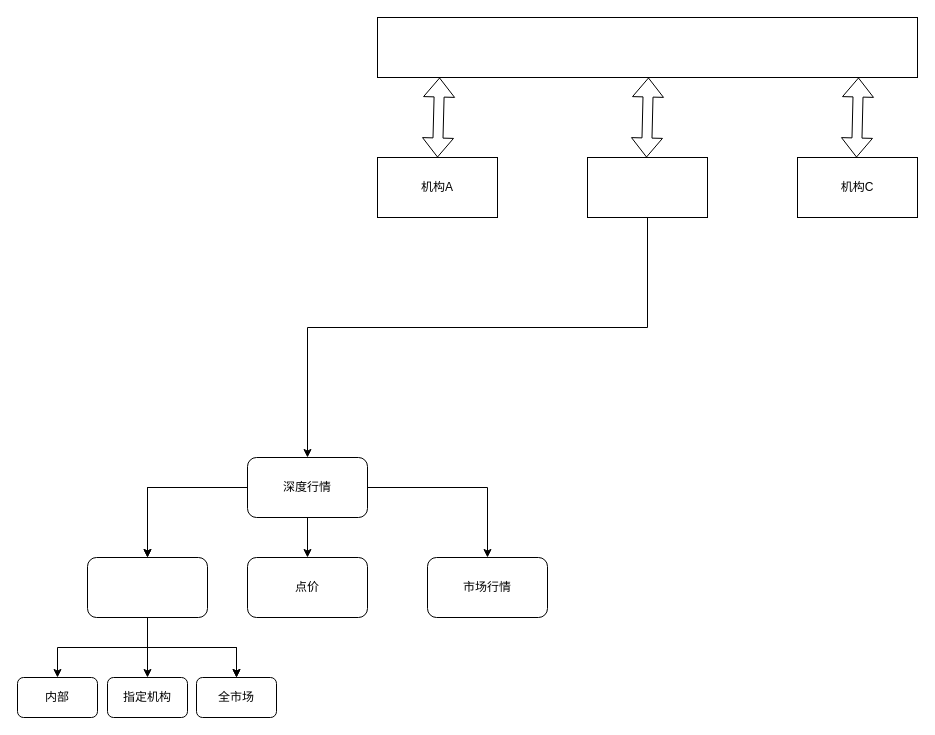
Image size: 935x735. Some labels were removed from this diagram. Each missing label, with the centre of its shape:
公共行情中心: (x=647, y=47)
报价: (x=147, y=587)
机构B: (x=647, y=187)
